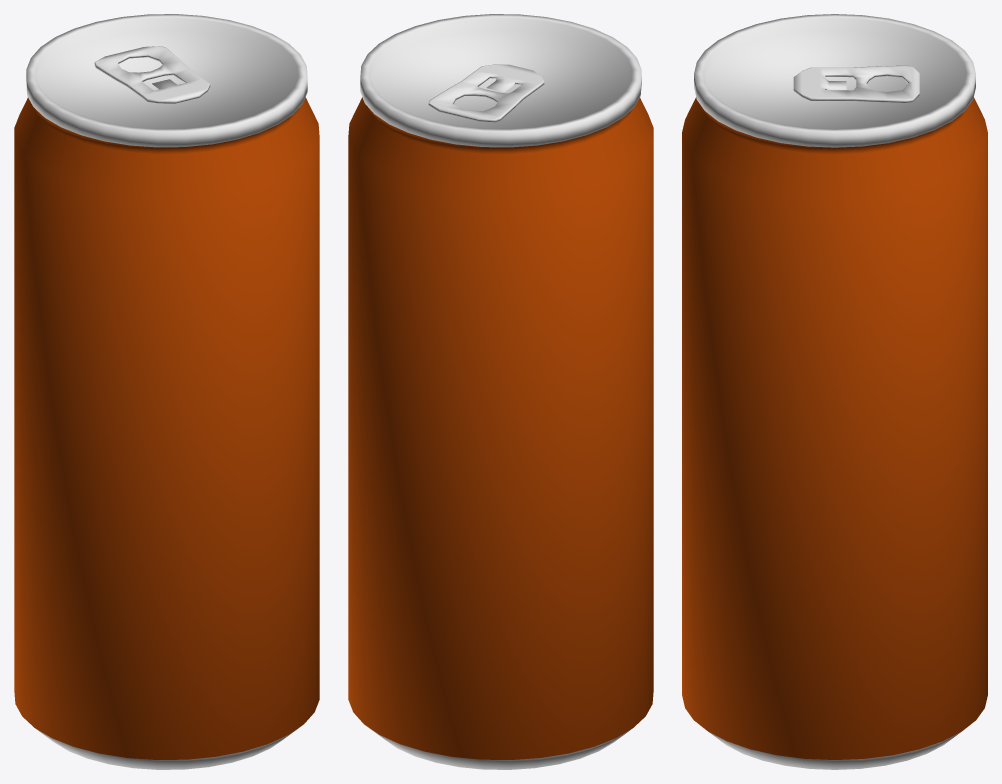
File: Can_LowRes.fbx
The picture shows the model from 3 angles, left to right: view 1: azimuth 30°, elevation 25°; view 2: azimuth 150°, elevation 25°; view 3: azimuth 270°, elevation 25°; orthographic projection.
Parts seen in each view (by area): view 1: LowRes_Can; view 2: LowRes_Can; view 3: LowRes_Can.
Part boxes in pixels (x1,y1,x2,y2): LowRes_Can: (14,14,319,769); LowRes_Can: (348,14,653,769); LowRes_Can: (682,14,987,769).
Size of the model in its own units: 9.85 by 22.8 by 9.85.
